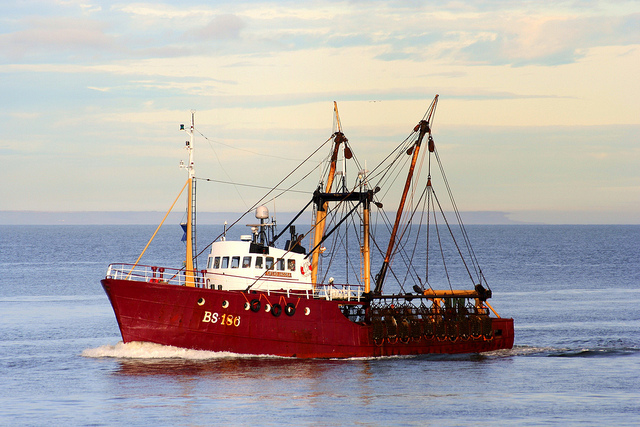fishing_boat: (100, 96, 524, 359)
